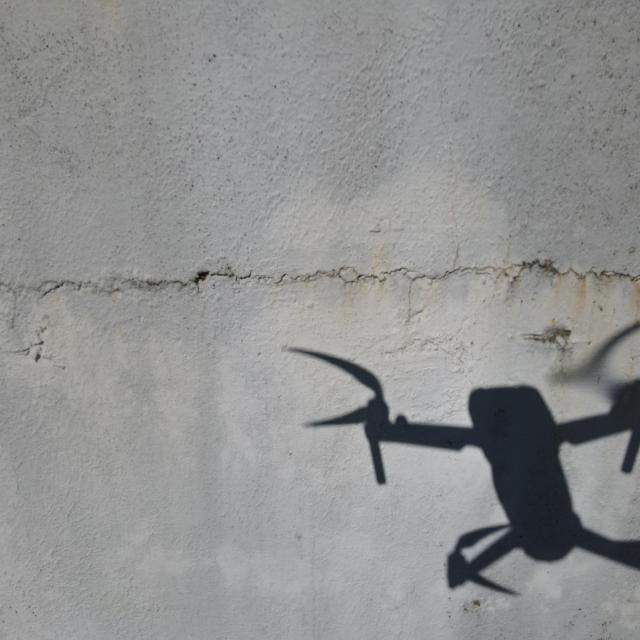SurfaceCrack: (0, 225, 639, 392), (270, 308, 596, 613)
